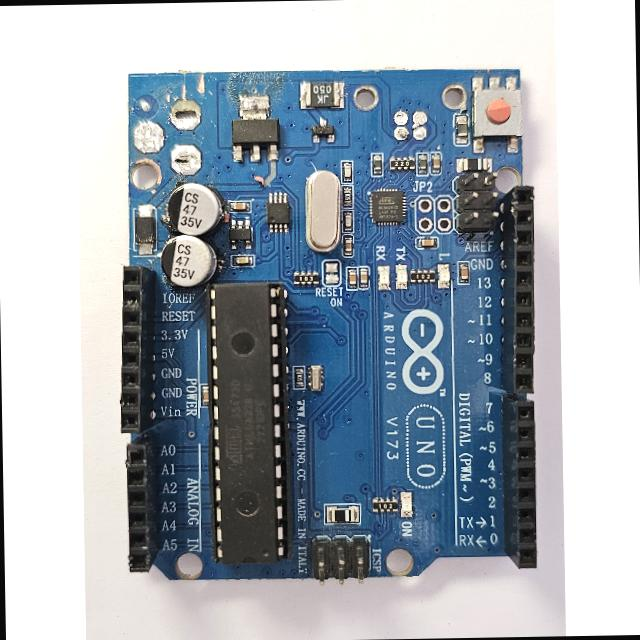missing_eps: (138, 91, 225, 173)
missing_usb: (349, 78, 470, 149)
